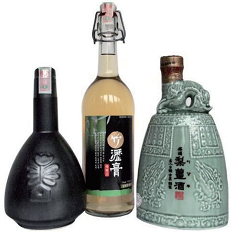soju: (81, 2, 135, 217)
